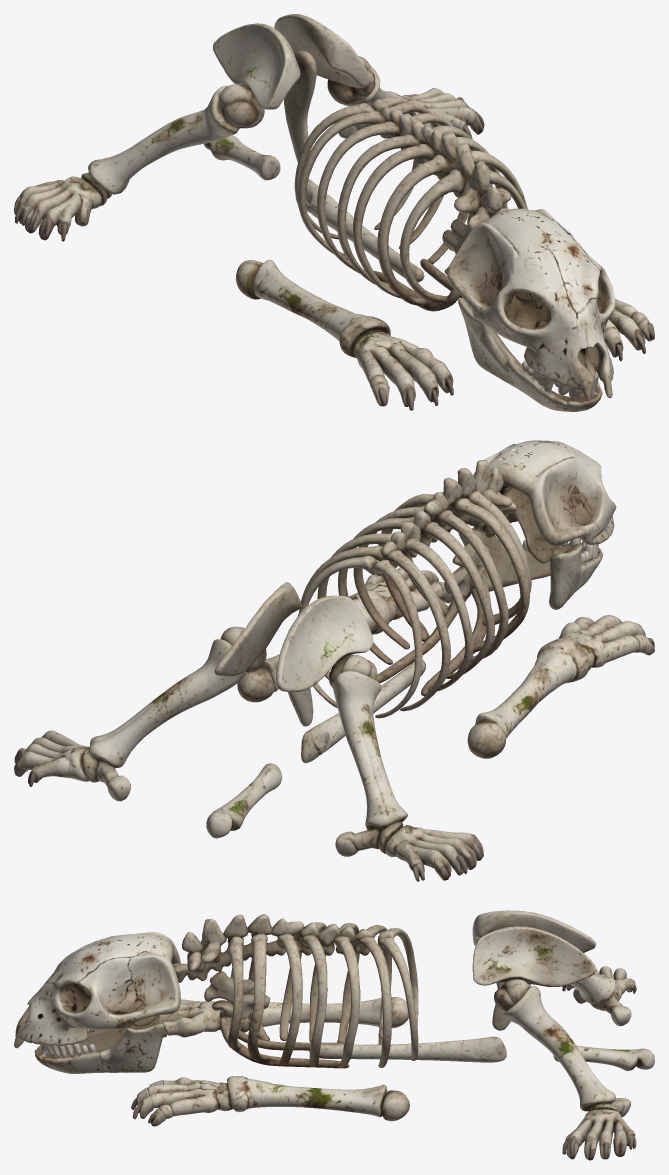
The model's file is weathered-cat-fossil-v306.glb.
3 views of the same model, one above another, from view 1: azimuth 30°, elevation 25°; view 2: azimuth 150°, elevation 25°; view 3: azimuth 270°, elevation 25° (orthographic). The views are drawn at different scales.
Visible parts, largest first — view 1: model; view 2: model; view 3: model.
Part boxes in pixels (left/top/right/bottom): model: left=14, top=14, right=654, bottom=411; model: left=14, top=440, right=654, bottom=881; model: left=14, top=910, right=654, bottom=1160.
Size of the model in its own units: 1.28 by 0.5222 by 1.9.
1 material, 1 textured.
